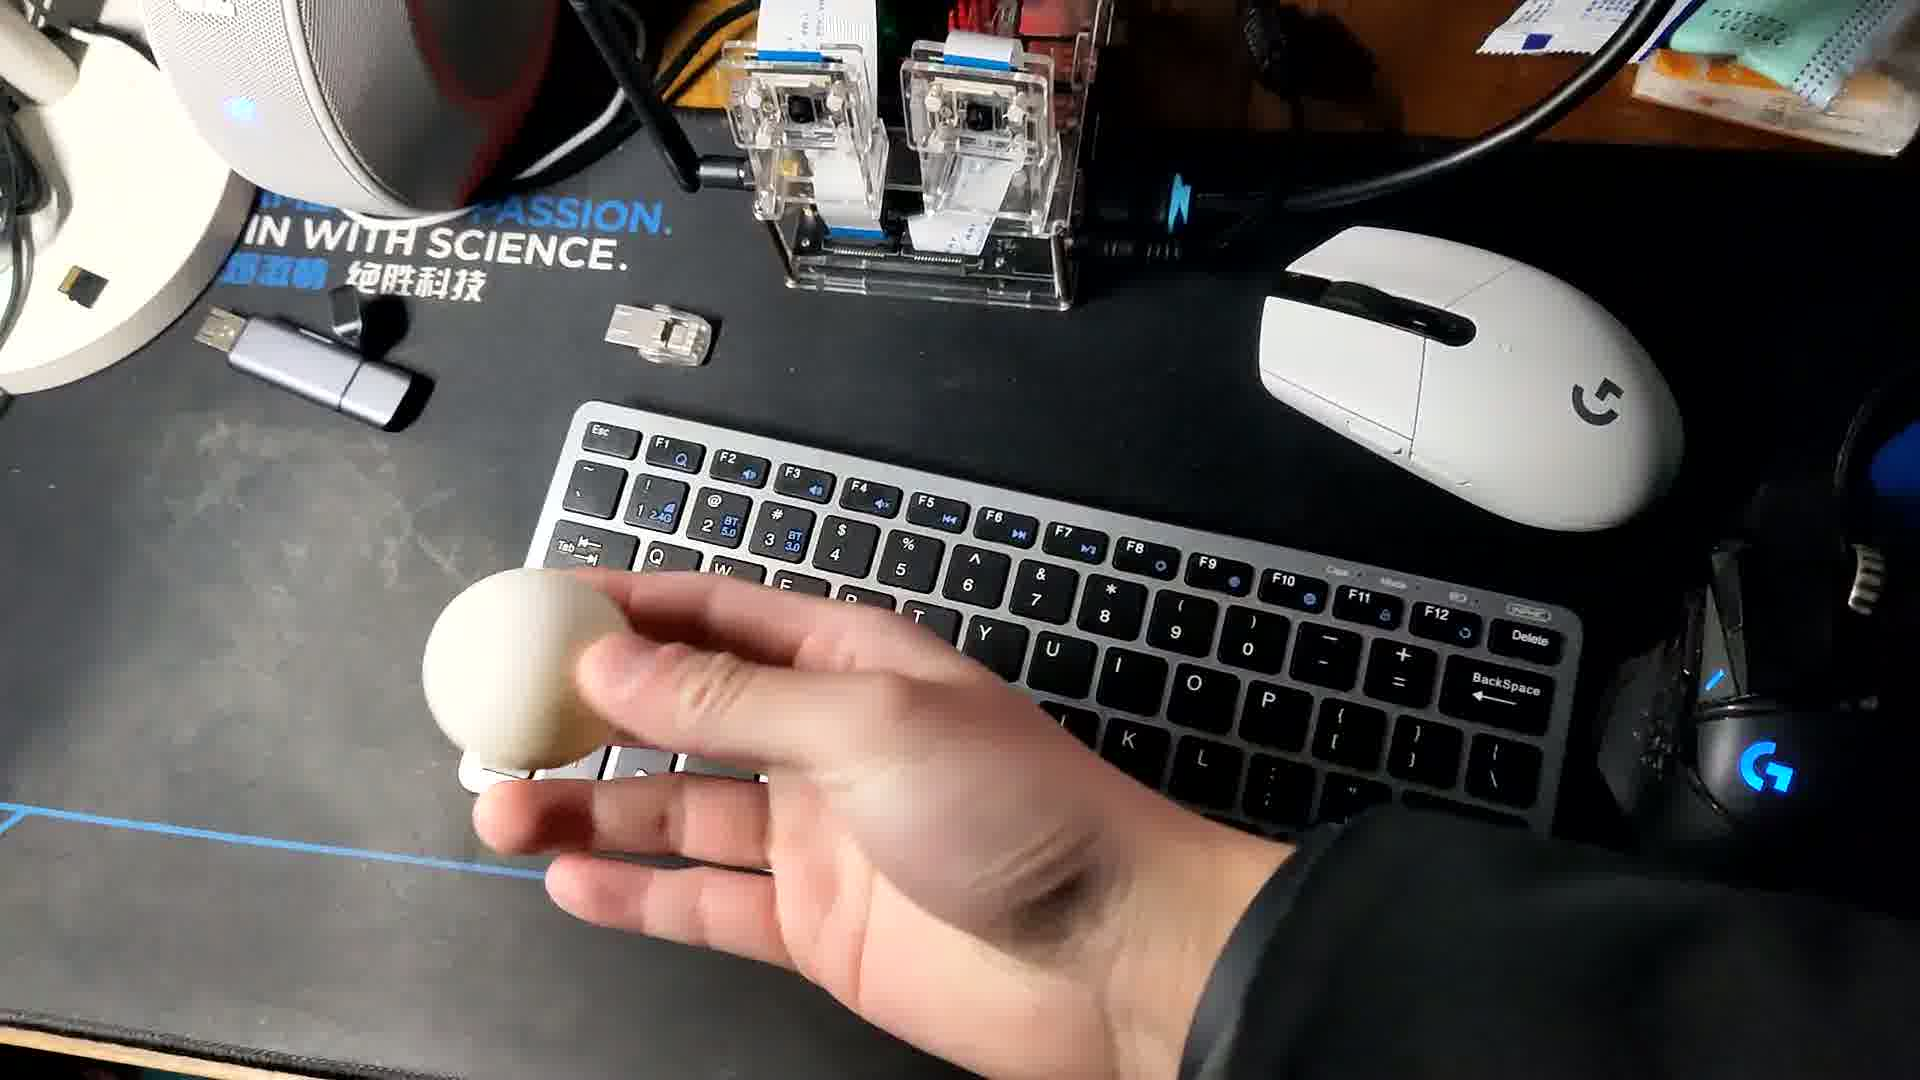Ball: (425, 568, 624, 771)
